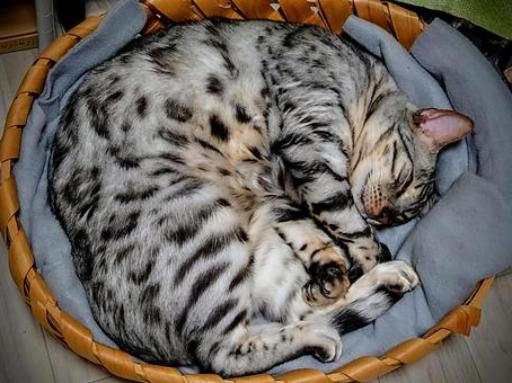cat_sleeping: (50, 19, 471, 376)
